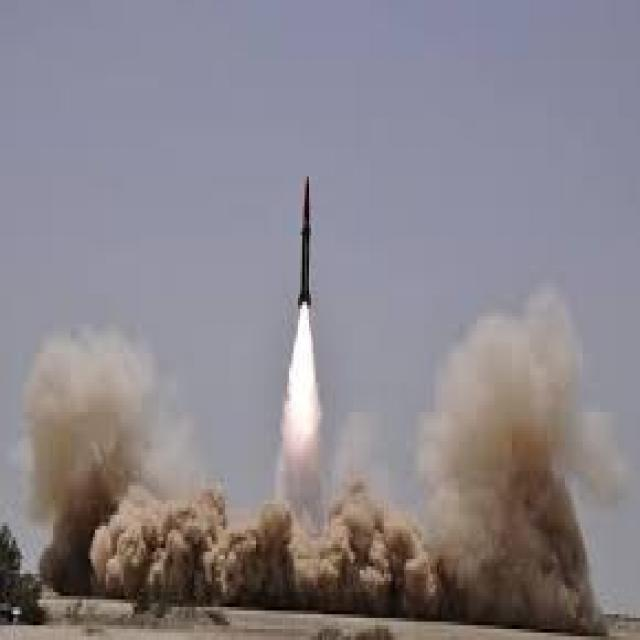Missile: (298, 170, 311, 334)
